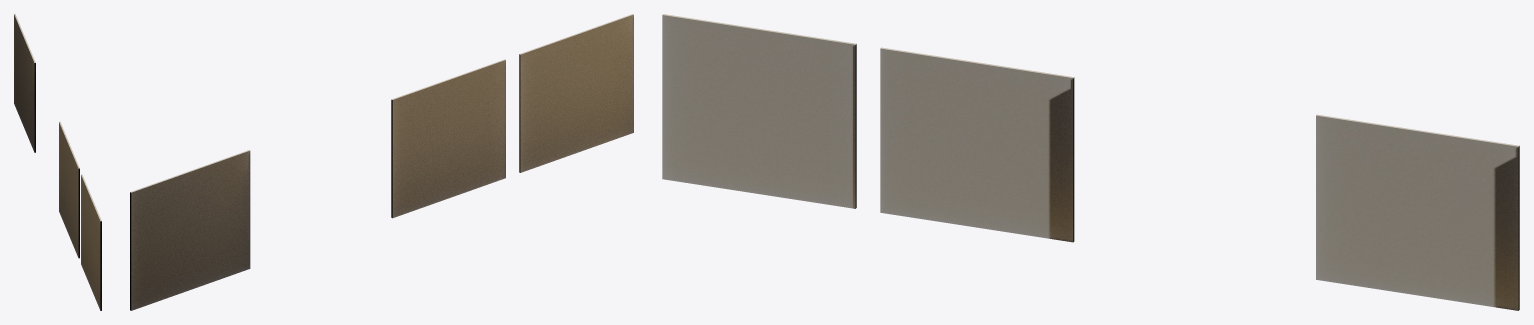
Rendered from Building_05_App_02_Glass.fbx.
3 renders of one model, left to right at view 1: azimuth 30°, elevation 25°; view 2: azimuth 150°, elevation 25°; view 3: azimuth 270°, elevation 25°, orthographic. The views are drawn at different scales.
Parts seen in each view (by area): view 1: Building_05_App_02_Glass; view 2: Building_05_App_02_Glass; view 3: Building_05_App_02_Glass.
Boxes of the visible parts, bbox=[...] form: Building_05_App_02_Glass: bbox=[14, 14, 101, 310]; Building_05_App_02_Glass: bbox=[130, 14, 633, 310]; Building_05_App_02_Glass: bbox=[662, 14, 1519, 310].
Bounding box in the file's own units: 2.4 × 1.38 × 6.55.
1 material, 1 textured.
